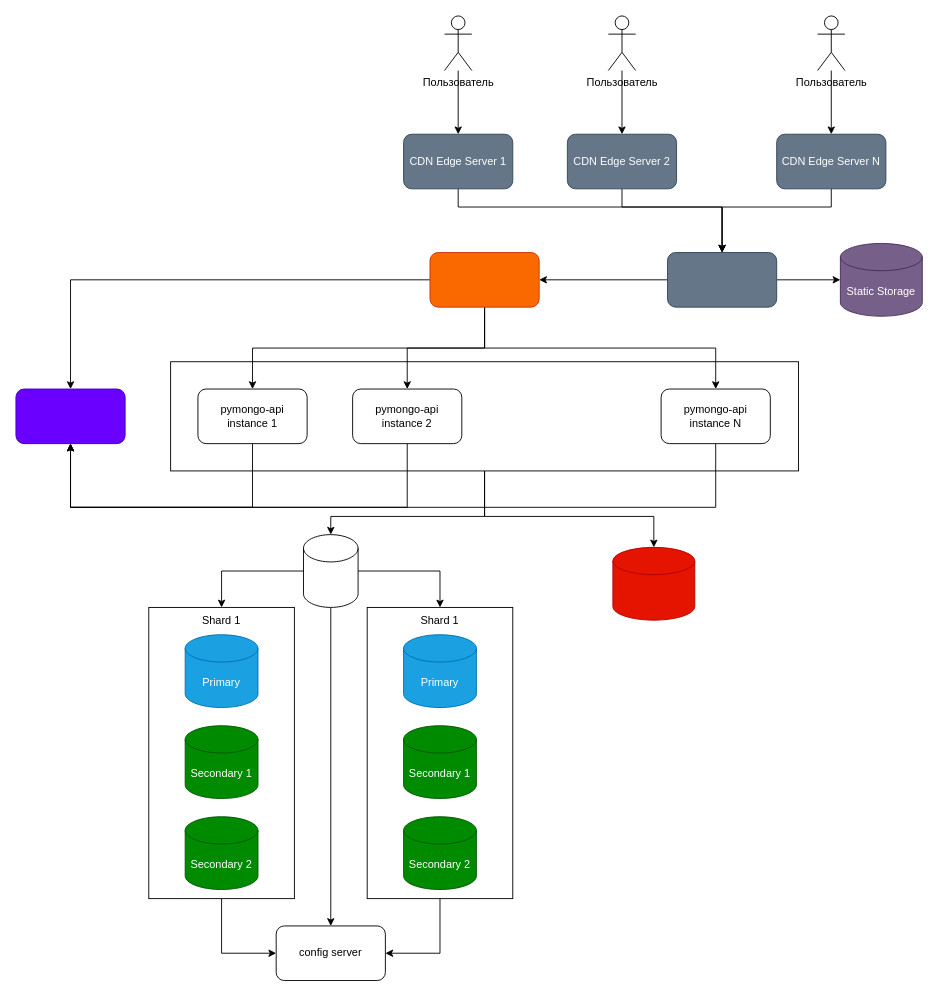
This 938x996 diagram has some shape labels left out. The shapes that lost their labels are listed below. From the top down, each one's box as (x1, y1, x2, y2) in pixels, then its label:
(429, 252, 539, 307): API Gateway
(667, 252, 777, 307): CDN Origin Server
(15, 388, 125, 444): Consul
(303, 534, 358, 607): mongos router
(612, 546, 695, 620): Redis
